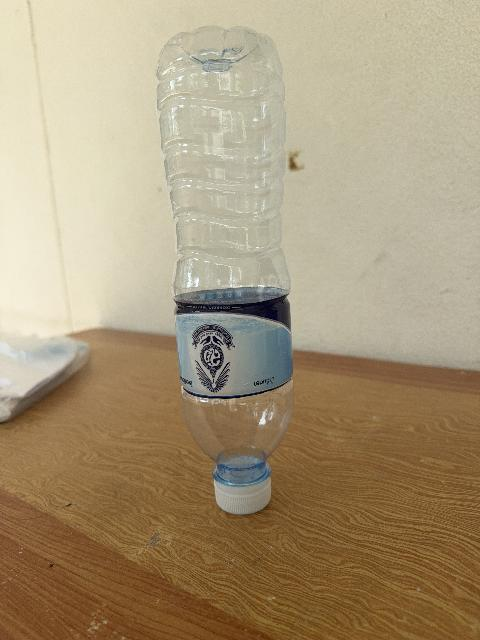bottle: (158, 27, 293, 513)
